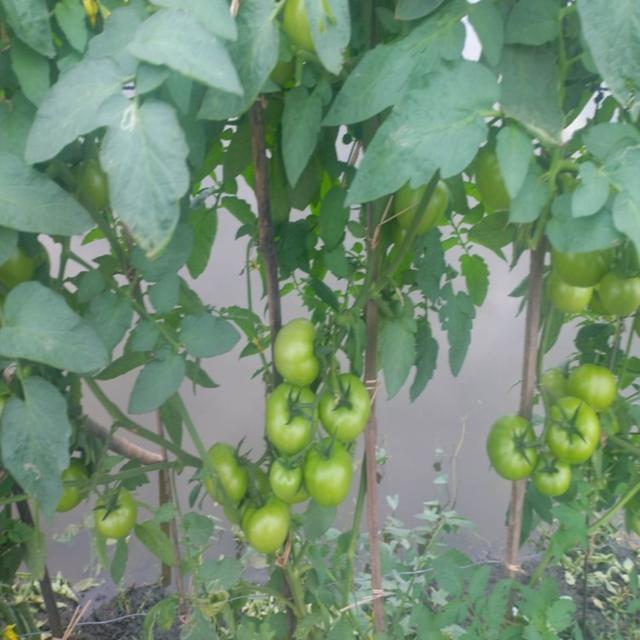tomato: (549, 401, 610, 464), (262, 387, 314, 457), (271, 322, 329, 384), (304, 440, 357, 505), (489, 416, 541, 478), (324, 381, 371, 440), (473, 151, 512, 218), (247, 501, 290, 557), (541, 273, 592, 318), (216, 440, 254, 495), (96, 495, 145, 536), (268, 460, 310, 506), (570, 366, 612, 411), (551, 254, 613, 284), (594, 275, 640, 314), (539, 461, 582, 501), (281, 1, 310, 55), (84, 155, 113, 202), (61, 468, 90, 513), (423, 190, 453, 233), (539, 372, 571, 406), (8, 255, 44, 283), (398, 188, 424, 224)
